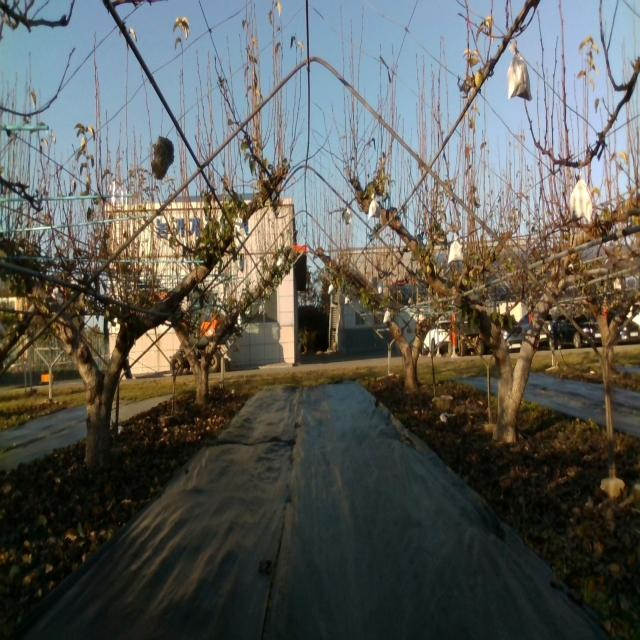pearbags: (508, 40, 533, 103), (569, 180, 593, 223), (448, 234, 464, 264), (368, 194, 380, 220), (234, 212, 246, 238)
